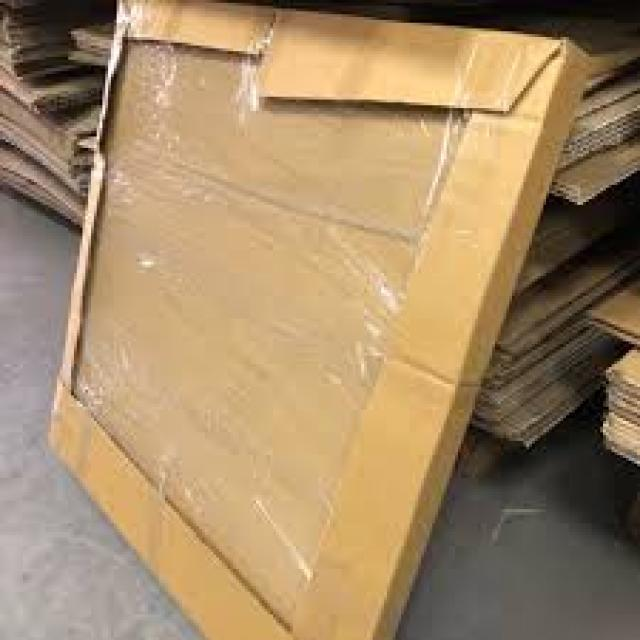Cardboard: (46, 1, 586, 640)
